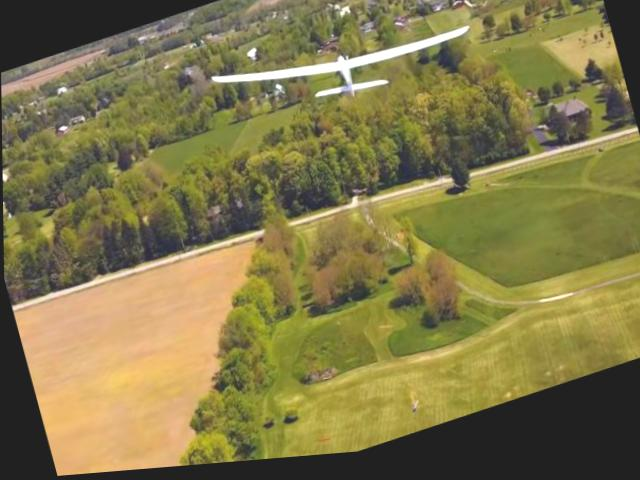iha: (209, 0, 478, 141)
